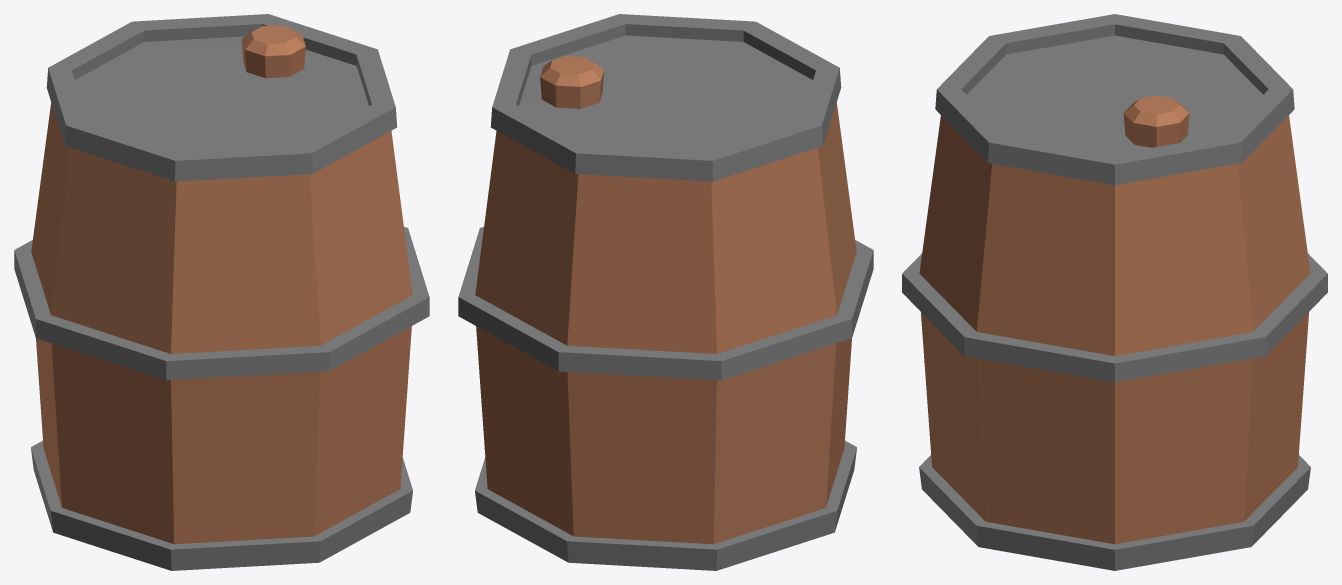
Rendered from botcle.fbx.
3 views of the same model, side by side, from view 1: azimuth 30°, elevation 25°; view 2: azimuth 150°, elevation 25°; view 3: azimuth 270°, elevation 25° (orthographic).
Visible parts, largest first — view 1: Окружность; view 2: Окружность; view 3: Окружность.
Boxes of the visible parts, x1,y1,x2,y2 form: Окружность: (14, 14, 429, 570); Окружность: (458, 14, 873, 570); Окружность: (902, 14, 1327, 570).
Size of the model in its own units: 233 by 253 by 233.
